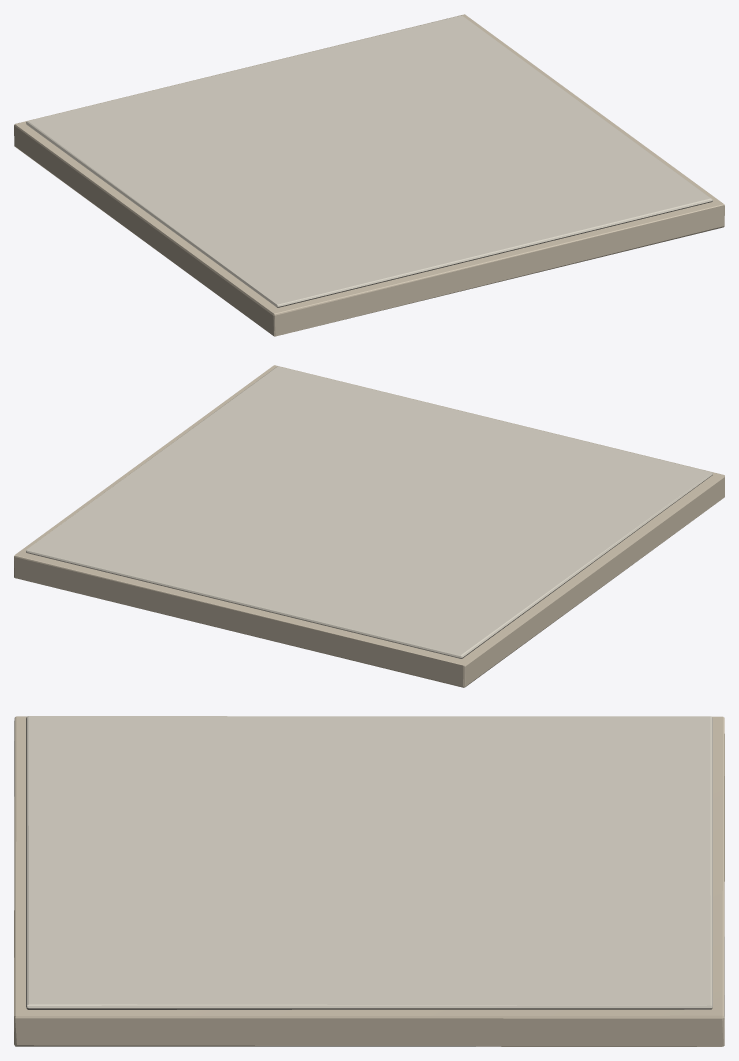
The model's file is shop_plinth_l_low.glb.
3 renders of one model, top to bottom at view 1: azimuth 30°, elevation 25°; view 2: azimuth 150°, elevation 25°; view 3: azimuth 270°, elevation 25°, orthographic. The views are drawn at different scales.
Size of the model in its own units: 2.4 by 0.14 by 2.4.
